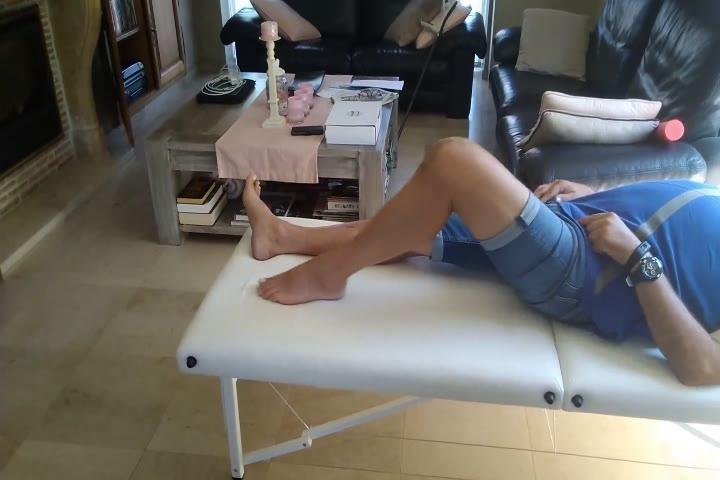lower_body: (236, 131, 610, 337)
